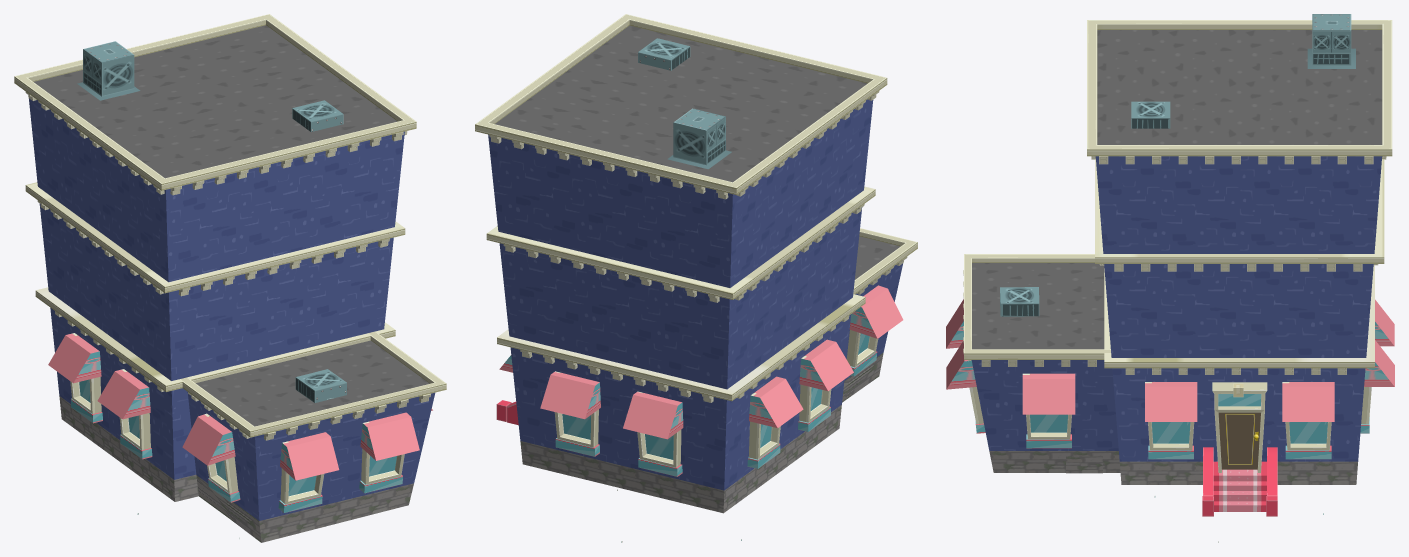
Rendered from building 11.fbx.
The picture shows the model from 3 angles, left to right: view 1: azimuth 30°, elevation 25°; view 2: azimuth 150°, elevation 25°; view 3: azimuth 270°, elevation 25°; orthographic projection. The views are drawn at different scales.
Visible parts, largest first — view 1: pCube15, pCube31, pCube2, pCube28, pCube30, pCube29, pCube43, pCube26.009, pCube26.008, pCube26.003, pCube26.004, pCube26.005 (+7 smaller); view 2: pCube15, pCube31, pCube30, pCube29, pCube43, pCube28, pCube26.006, pCube26.007, pCube26.004, pCube26.005, pCube26.003, pCube2 (+6 smaller); view 3: pCube15, pCube31, pCube28, pCube2, pCube18, pCube30, pCube29, pCube43, pCube20, pCube26.002, pCube26, pCube26.001 (+12 smaller).
Boxes of the visible parts, x1,y1,x2,y2 form: pCube15: [29, 98, 404, 501]; pCube31: [14, 14, 416, 190]; pCube2: [187, 392, 435, 542]; pCube28: [179, 331, 446, 437]; pCube30: [25, 182, 405, 293]; pCube29: [35, 287, 395, 391]; pCube43: [77, 41, 140, 100]; pCube26.009: [280, 432, 339, 480]; pCube26.008: [360, 412, 419, 460]; pCube26.003: [182, 413, 235, 465]; pCube26.004: [97, 369, 150, 419]; pCube26.005: [48, 333, 101, 383]; pCube15: [488, 99, 873, 513]; pCube31: [475, 14, 887, 194]; pCube30: [486, 186, 875, 299]; pCube29: [497, 294, 865, 401]; pCube43: [667, 108, 731, 169]; pCube28: [853, 228, 917, 294]; pCube26.006: [540, 371, 600, 419]; pCube26.007: [623, 391, 683, 439]; pCube26.004: [799, 339, 853, 391]; pCube26.005: [749, 376, 803, 428]; pCube26.003: [849, 285, 903, 338]; pCube2: [842, 263, 902, 402]; pCube15: [1095, 156, 1382, 484]; pCube31: [1087, 20, 1392, 156]; pCube28: [964, 254, 1110, 359]; pCube2: [971, 360, 1120, 472]; pCube18: [1212, 382, 1267, 472]; pCube30: [1095, 159, 1384, 263]; pCube29: [1104, 265, 1374, 368]; pCube43: [1307, 14, 1355, 68]; pCube20: [1213, 461, 1266, 511]; pCube26.002: [1022, 373, 1075, 414]; pCube26: [1145, 382, 1197, 421]; pCube26.001: [1282, 382, 1334, 421].
Bounding box in the file's own units: 1094 × 1556 × 1400.
Materials: 14 (14 with a texture image).
